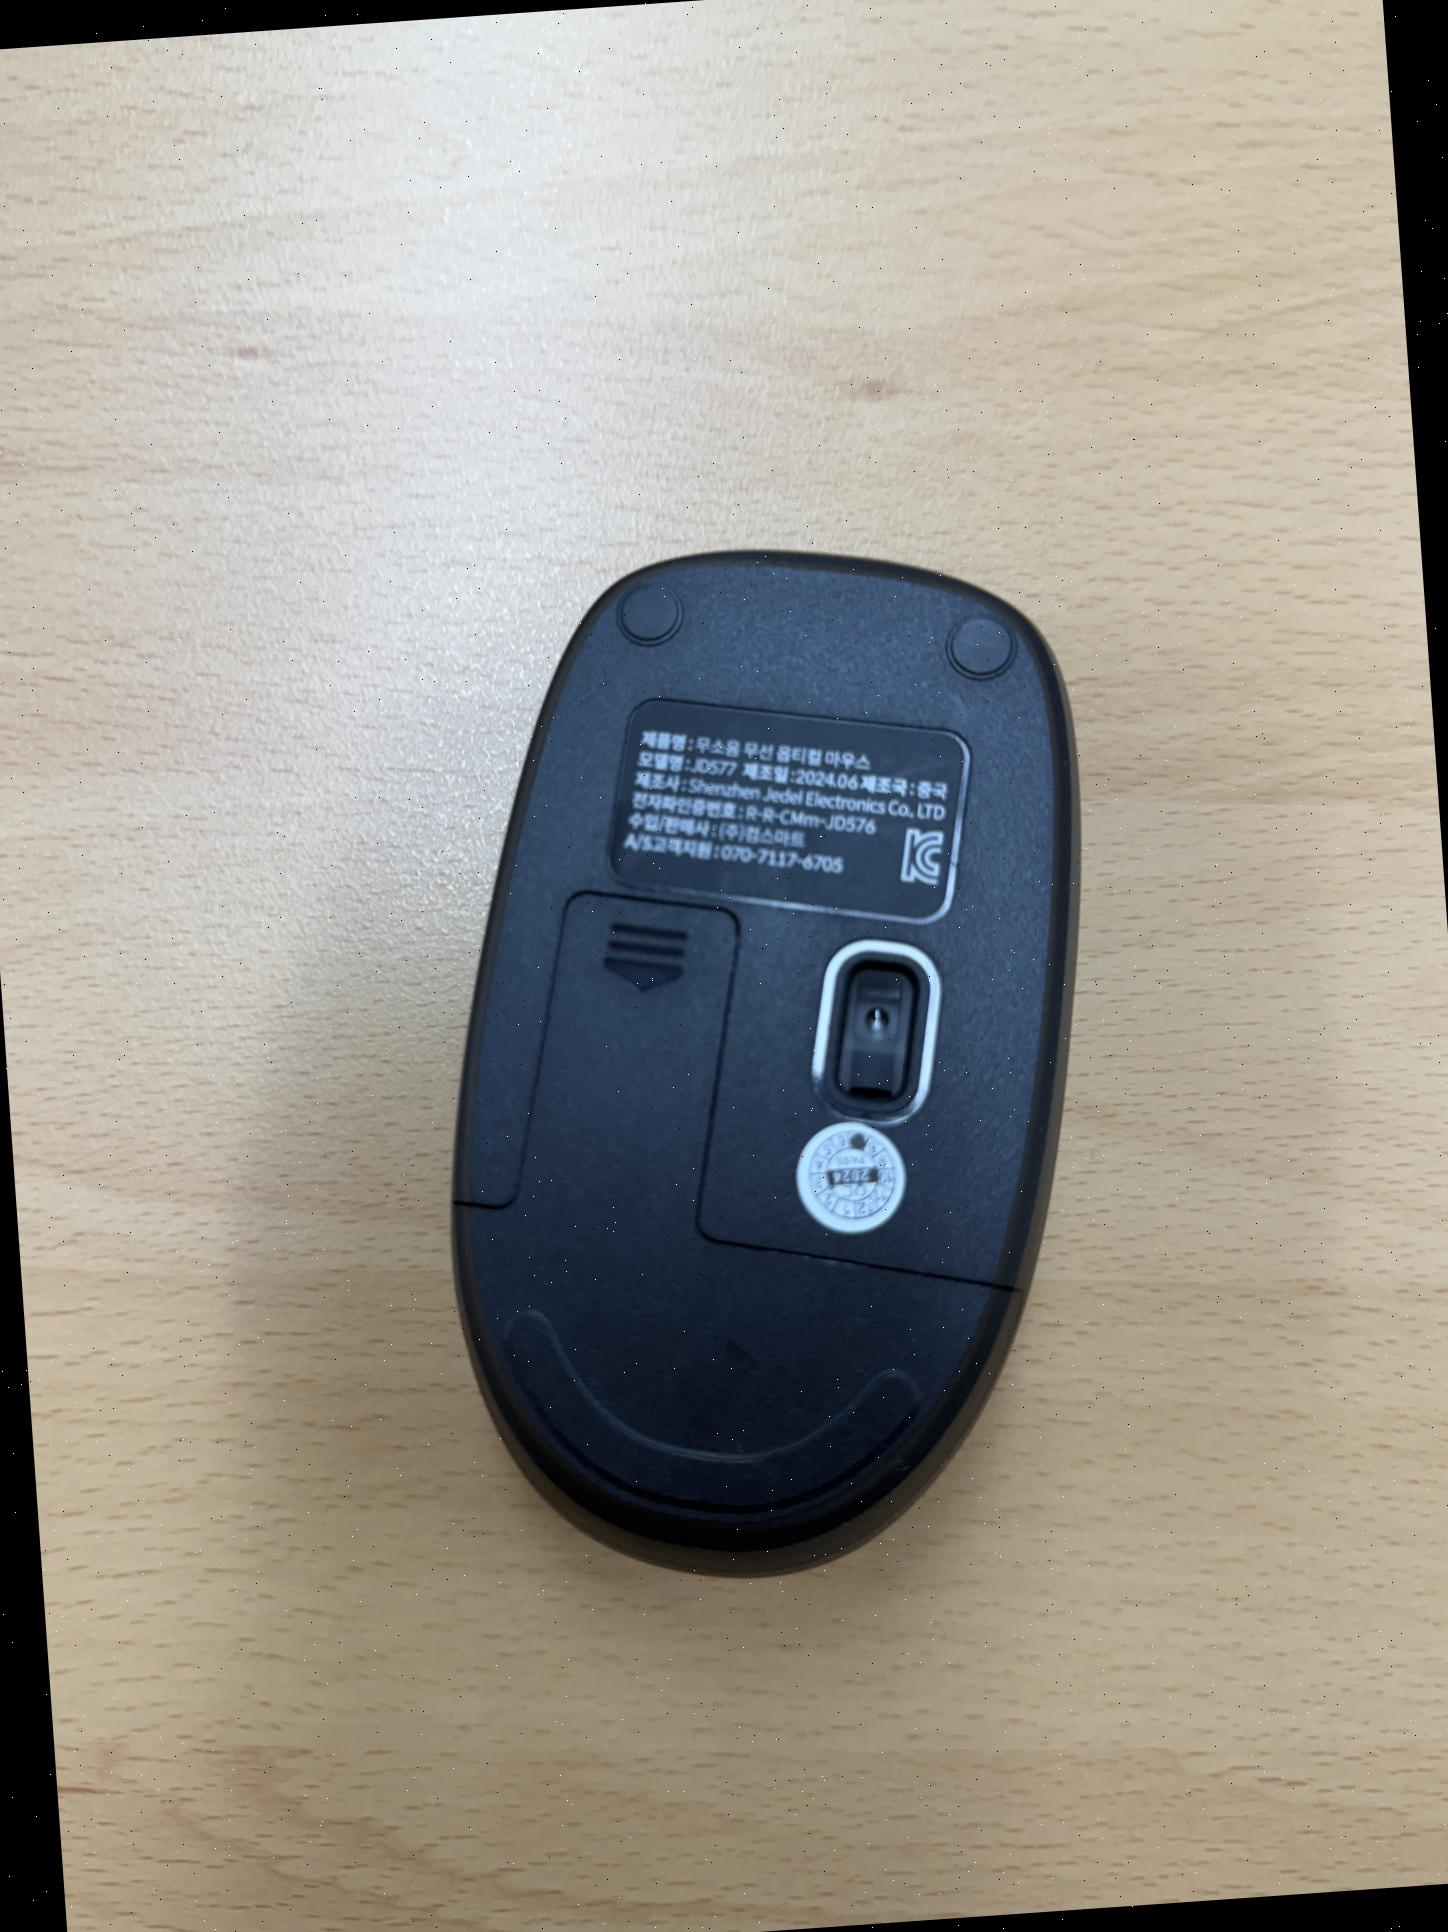back: (392, 516, 1137, 1611)
